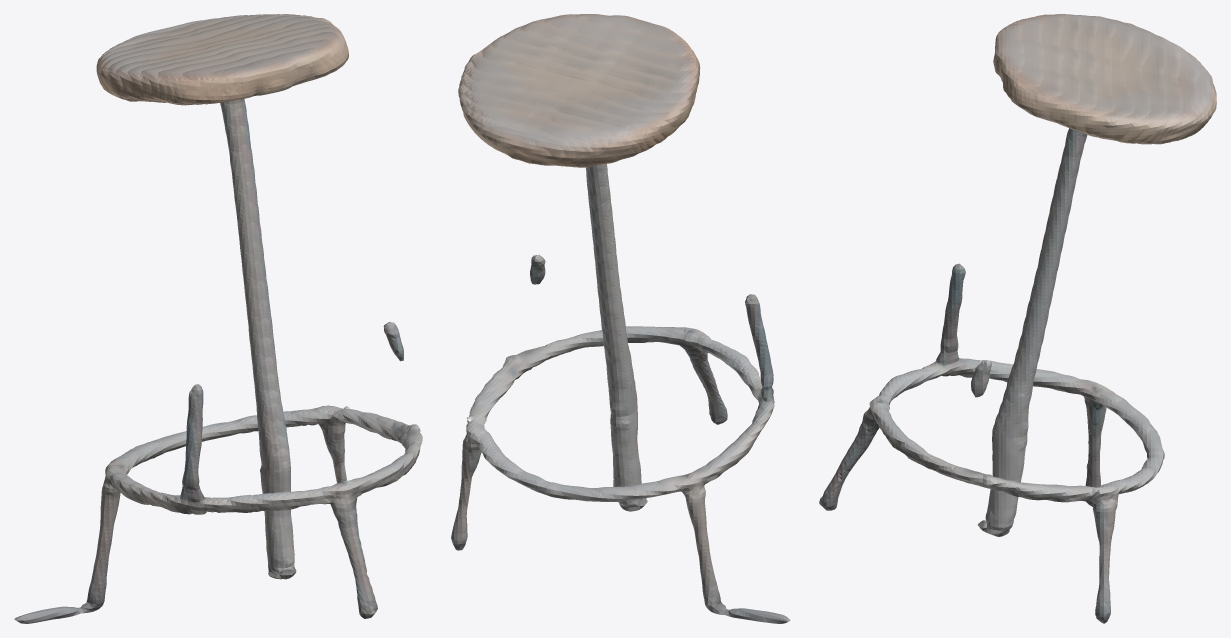
File: bar-stool.glb
3 renders of one model, left to right at view 1: azimuth 30°, elevation 25°; view 2: azimuth 150°, elevation 25°; view 3: azimuth 270°, elevation 25°, orthographic. The views are drawn at different scales.
Parts seen in each view (by area): view 1: world; view 2: world; view 3: world.
Boxes of the visible parts, x1=… form: world: x1=14, y1=14, x2=422, y2=623; world: x1=451, y1=14, x2=790, y2=623; world: x1=819, y1=14, x2=1216, y2=623.
Bounding box in the file's own units: 0.6716 × 1.01 × 0.6946.
